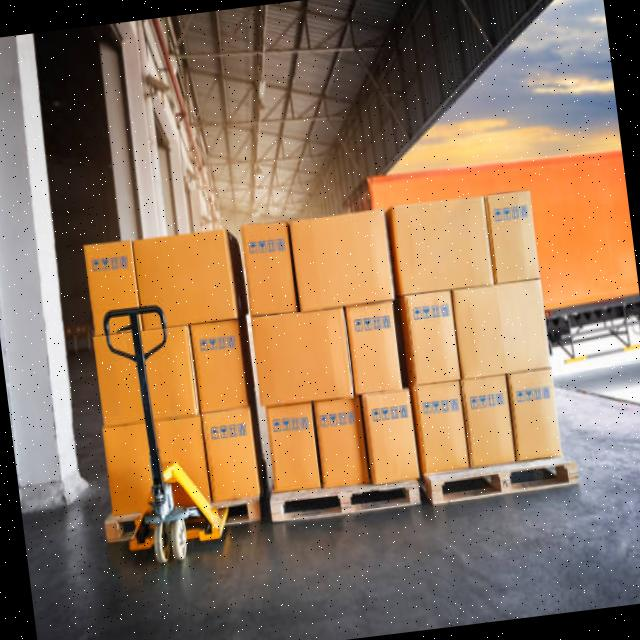Wooden-Pallets: (428, 438, 578, 515), (267, 477, 427, 534)
